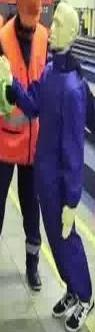boots: (22, 240, 40, 291), (0, 234, 14, 290)
gloves: (59, 204, 76, 240), (4, 84, 18, 104)
hard-hat: (14, 0, 42, 26)
mask: (1, 0, 1, 0)
ppe-suit: (31, 61, 95, 295)
vest: (0, 29, 50, 155)
